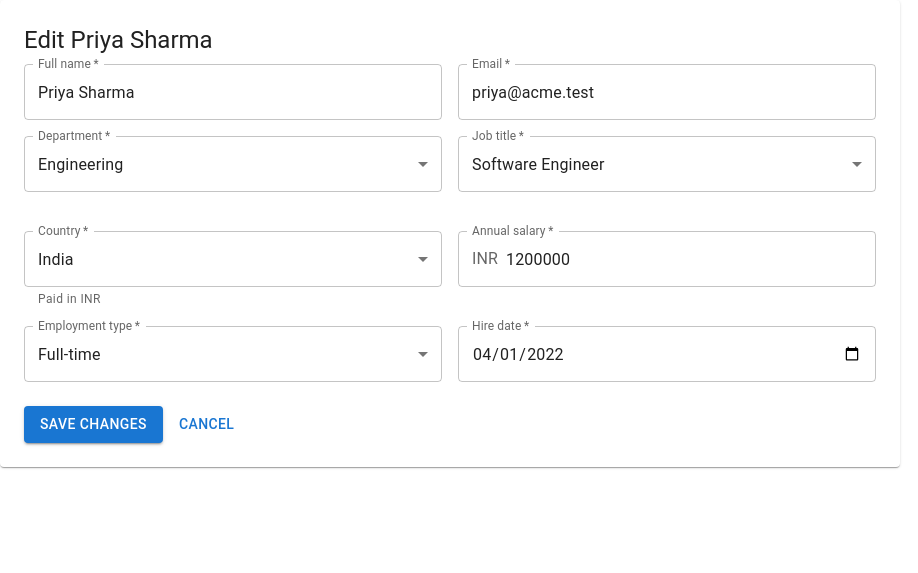
it: EmployeeFormPage › shows server validation errors next to the fields
This screenshot has width=918, height=573.
What coordinates should you click on to do the following:
click the button "Save changes"
I would click on:
 (93, 424)
Its box is [24,406,163,443].
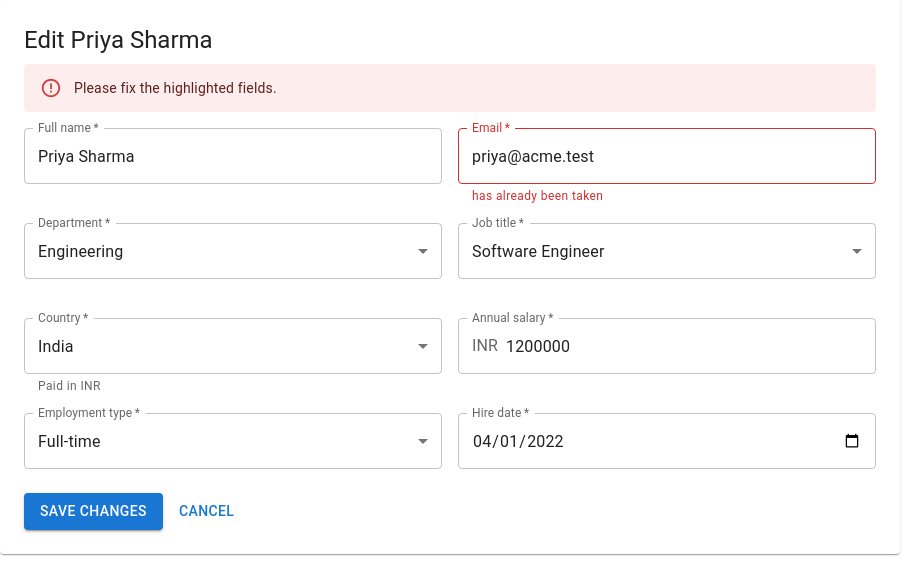
expect the text "Please fix the highlighted fields." is shown: met, box [74,80,277,96]
expect the text "has already been taken" is shown: met, box [472,189,603,203]
